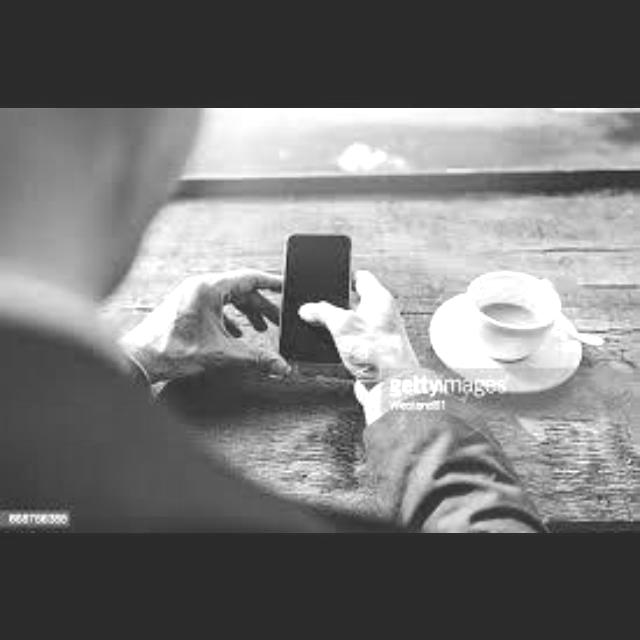fake: (244, 216, 410, 402)
